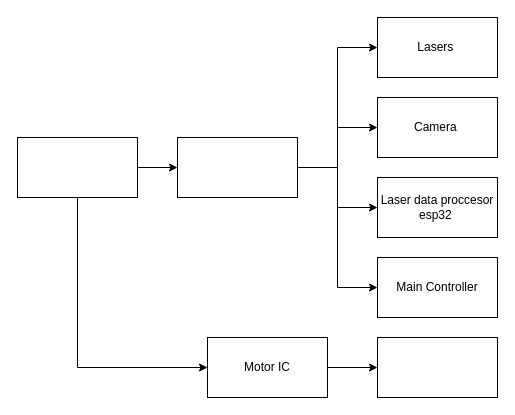
The diagram is 515 pixels wide and 415 high, and some of its shapes have lost their labels. The shapes that lost their labels are listed below. From the top down, each one's centre as x and y in pixels, then its label:
At (x=77, y=167): "Battery (12V)".
At (x=237, y=167): "Step-down Ciruit".
At (x=437, y=367): "Motors".
